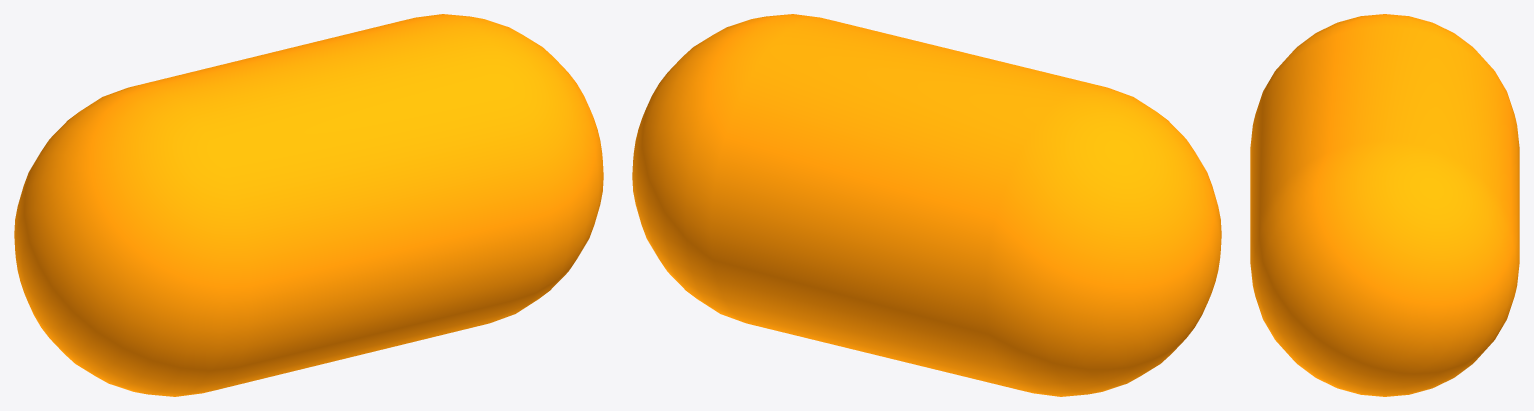
The model's file is block_yellow.glb.
3 views of the same model, side by side, from view 1: azimuth 30°, elevation 25°; view 2: azimuth 150°, elevation 25°; view 3: azimuth 270°, elevation 25° (orthographic). The views are drawn at different scales.
Visible parts, largest first — view 1: Sphere; view 2: Sphere; view 3: Sphere.
Part boxes in pixels (<box>): Sphere: <box>14,14,603,396</box>; Sphere: <box>632,14,1221,396</box>; Sphere: <box>1250,14,1519,396</box>.
Bounding box in the file's own units: 2 × 1 × 1.
